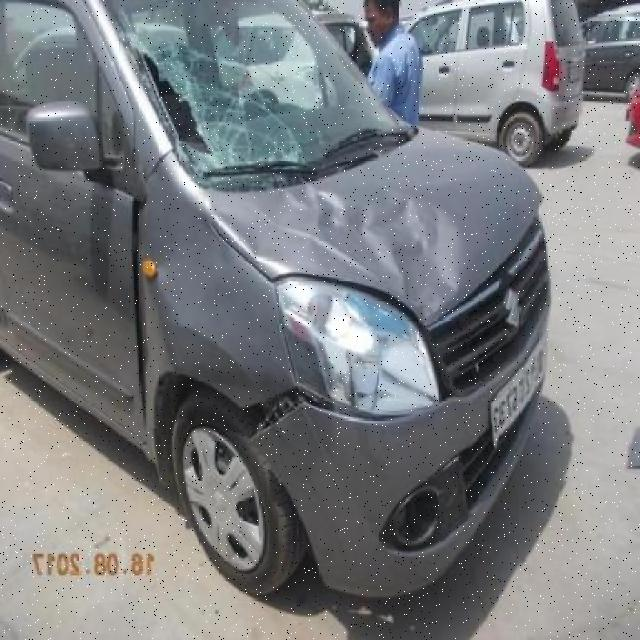damage: (208, 185, 462, 327), (127, 36, 306, 193), (421, 196, 545, 332), (237, 388, 397, 443), (130, 194, 151, 432)
